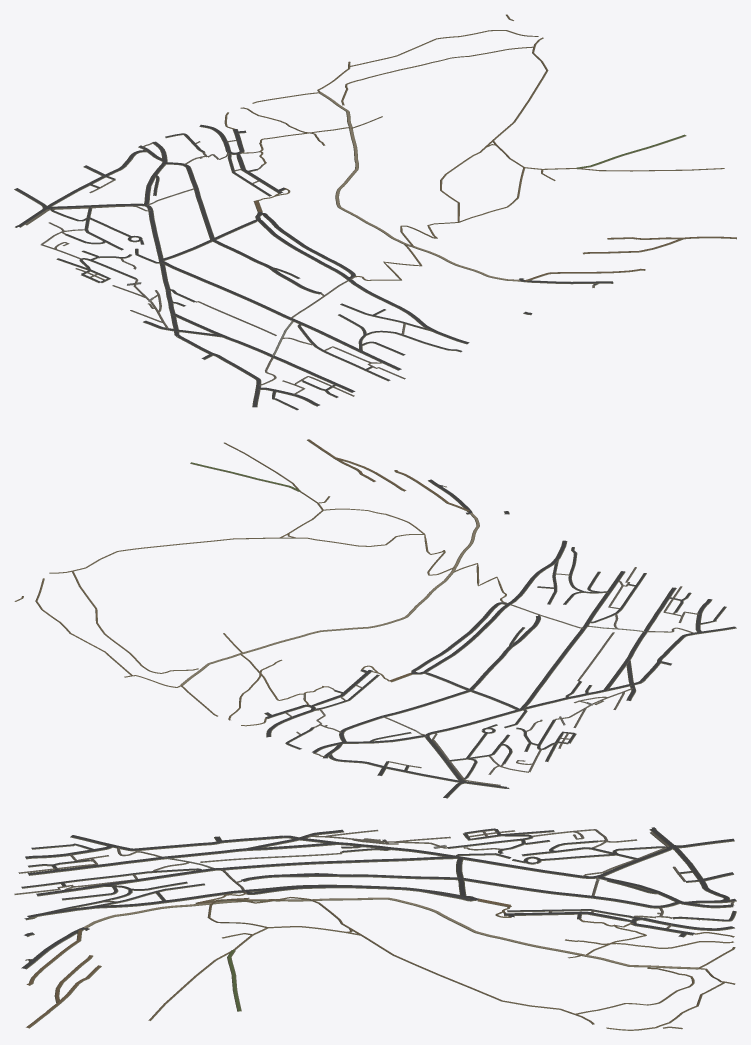
3 views of the same model, one above another, from view 1: azimuth 30°, elevation 25°; view 2: azimuth 150°, elevation 25°; view 3: azimuth 270°, elevation 25° (orthographic). The views are drawn at different scales.
Parts seen in each view (by area): view 1: roads; view 2: roads; view 3: roads.
Boxes of the visible parts, x1,y1,x2,y2 form: roads: (14, 14, 736, 410); roads: (14, 439, 736, 798); roads: (14, 827, 736, 1030).
Bounding box in the file's own units: 806 × 153 × 817.
